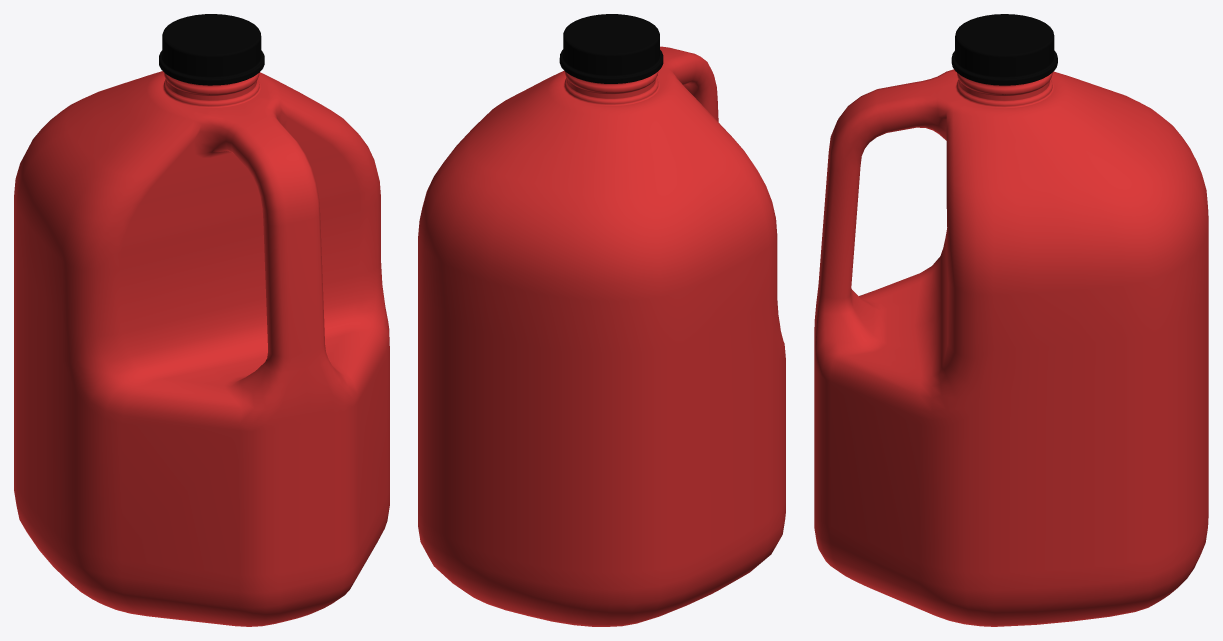
File: plastic_cleaning_bottle.glb
The picture shows the model from 3 angles, left to right: view 1: azimuth 30°, elevation 25°; view 2: azimuth 150°, elevation 25°; view 3: azimuth 270°, elevation 25°; orthographic projection. The views are drawn at different scales.
Visible parts, largest first — view 1: Object_3, Object_2; view 2: Object_3, Object_2; view 3: Object_3, Object_2.
Boxes of the visible parts, bbox=[...] form: Object_3: bbox=[14, 71, 389, 626]; Object_2: bbox=[159, 14, 264, 85]; Object_3: bbox=[418, 46, 785, 626]; Object_2: bbox=[559, 14, 663, 83]; Object_3: bbox=[814, 69, 1208, 626]; Object_2: bbox=[951, 14, 1057, 85].
Bounding box in the file's own units: 14.65 × 24.01 × 16.09.
